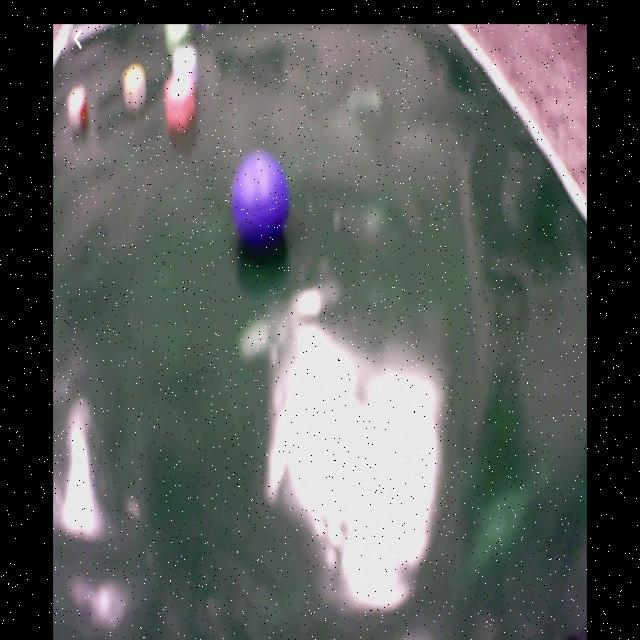ball: (232, 154, 291, 243)
